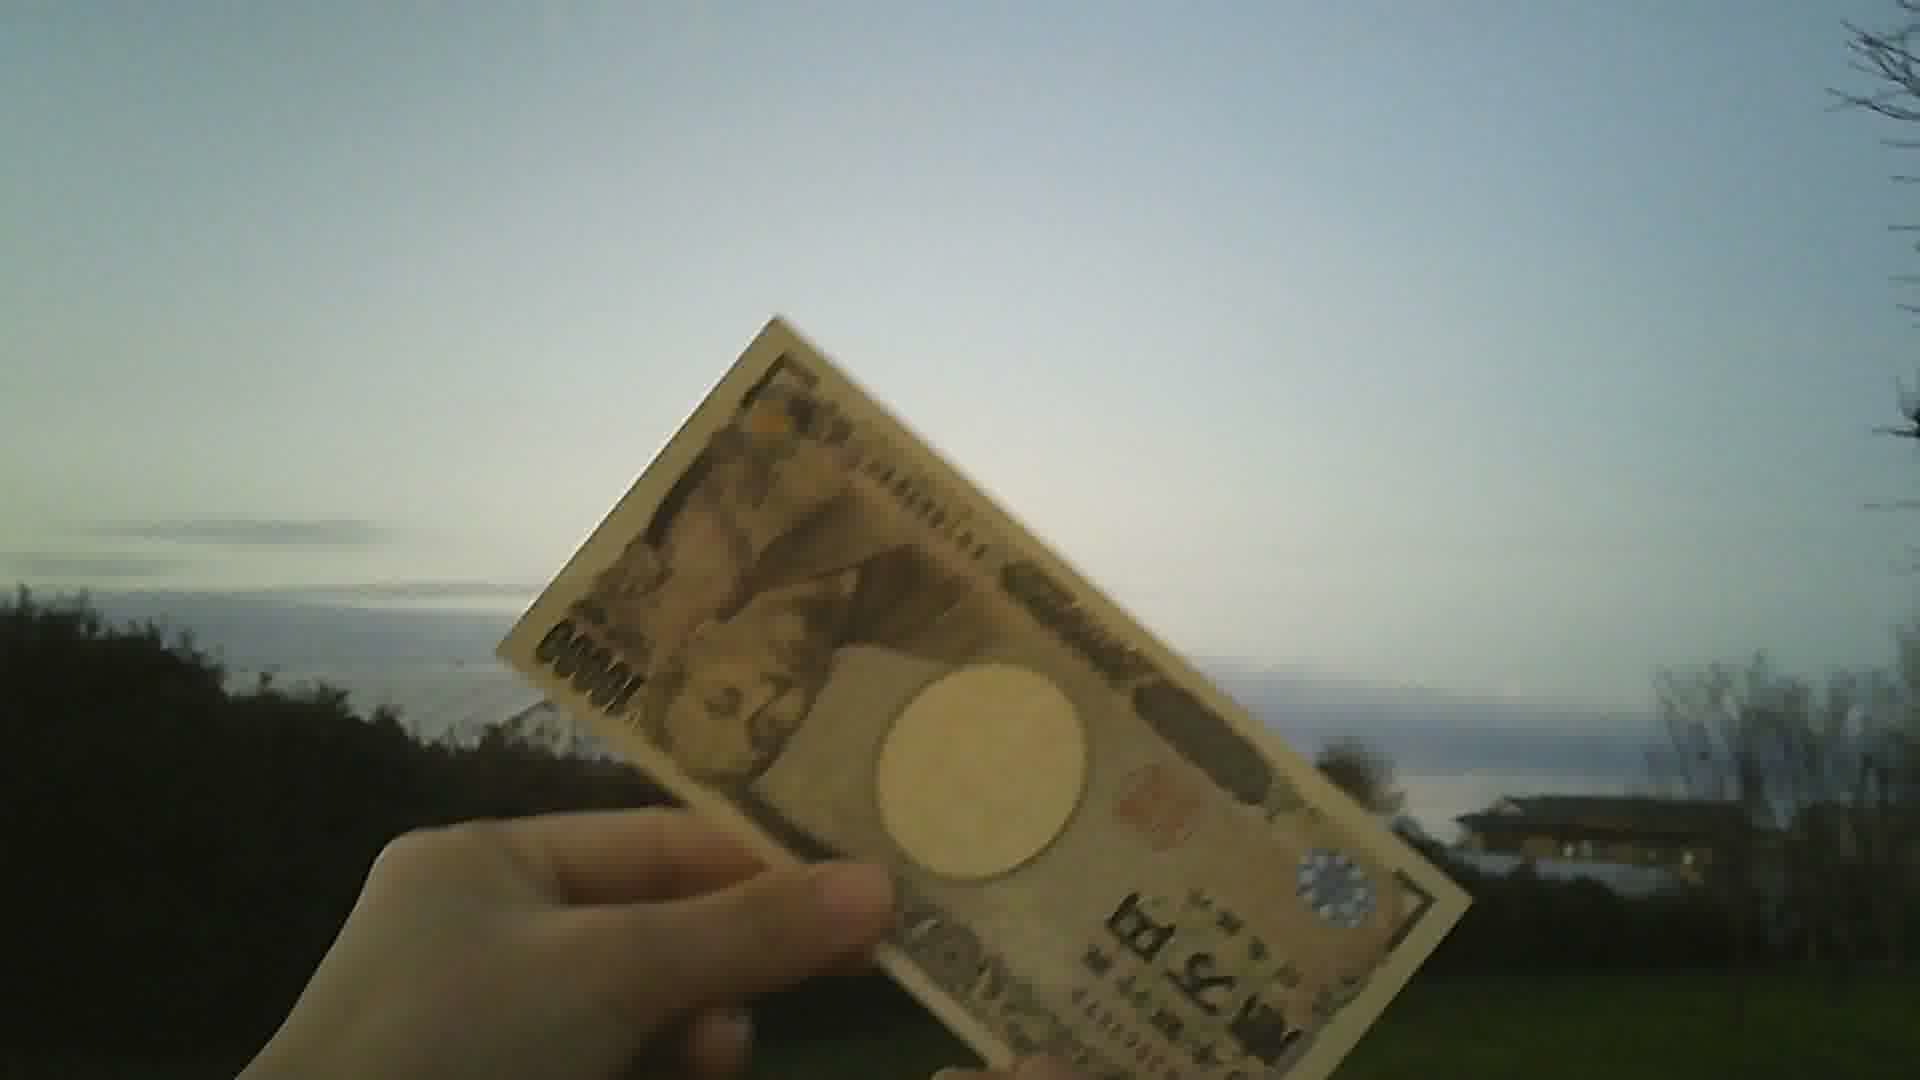10,000 Yen: (513, 302, 1464, 1079)
